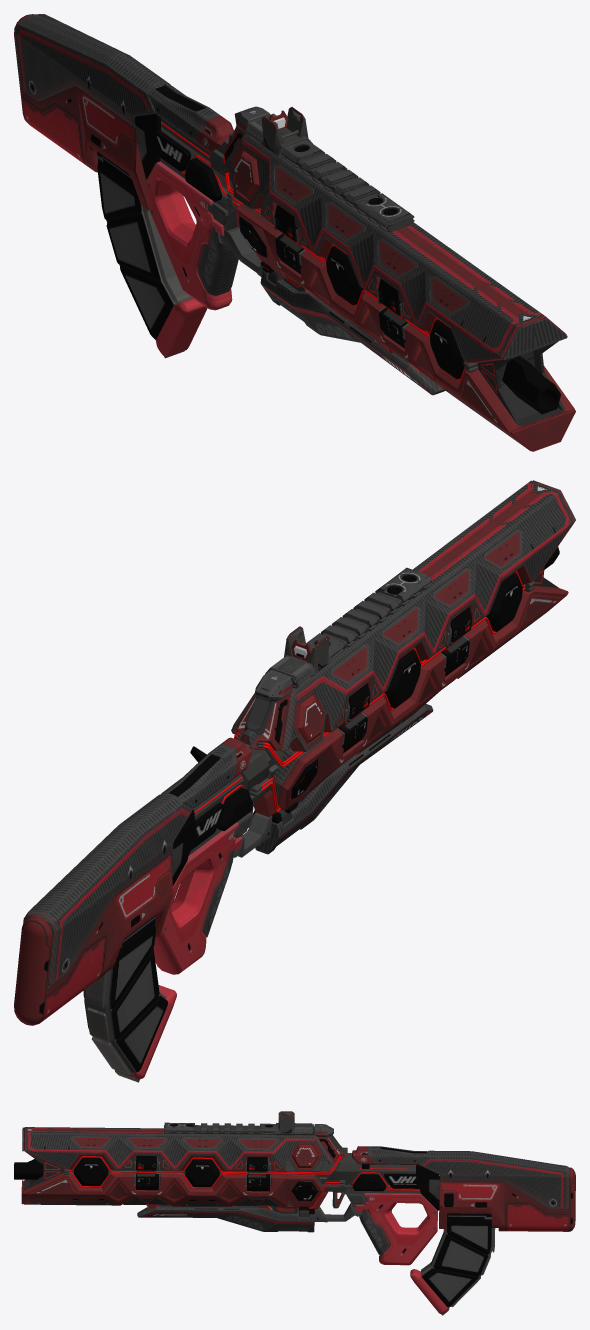
File: flatline_rifle.glb
The picture shows the model from 3 angles, top to bottom: view 1: azimuth 30°, elevation 25°; view 2: azimuth 150°, elevation 25°; view 3: azimuth 270°, elevation 25°; orthographic projection. The views are drawn at different scales.
Parts seen in each view (by area): view 1: body_0_flatline_react_v20_assim_main.002_flatline_react_v20_, magazine_0_flatline_react_v20_assim_main.002_flatline_react_, body_0_flatline_react_v20_assim_piston.002_flatline_react_v2, sight_rear_on_1_flatline_react_v20_assim_main.002_flatline_r; view 2: body_0_flatline_react_v20_assim_main.002_flatline_react_v20_, magazine_0_flatline_react_v20_assim_main.002_flatline_react_, body_0_flatline_react_v20_assim_piston.002_flatline_react_v2, sight_rear_on_1_flatline_react_v20_assim_main.002_flatline_r; view 3: body_0_flatline_react_v20_assim_main.002_flatline_react_v20_, magazine_0_flatline_react_v20_assim_main.002_flatline_react_, body_0_flatline_react_v20_assim_piston.002_flatline_react_v2, sight_rear_on_1_flatline_react_v20_assim_main.002_flatline_r.
Part boxes in pixels (bbox=[...]): body_0_flatline_react_v20_assim_main.002_flatline_react_v20_: bbox=[14, 14, 575, 451]; magazine_0_flatline_react_v20_assim_main.002_flatline_react_: bbox=[97, 151, 207, 358]; body_0_flatline_react_v20_assim_piston.002_flatline_react_v2: bbox=[233, 151, 469, 379]; sight_rear_on_1_flatline_react_v20_assim_main.002_flatline_r: bbox=[245, 107, 312, 159]; body_0_flatline_react_v20_assim_main.002_flatline_react_v20_: bbox=[14, 480, 575, 1025]; magazine_0_flatline_react_v20_assim_main.002_flatline_react_: bbox=[83, 915, 176, 1082]; body_0_flatline_react_v20_assim_piston.002_flatline_react_v2: bbox=[290, 529, 522, 799]; sight_rear_on_1_flatline_react_v20_assim_main.002_flatline_r: bbox=[265, 626, 332, 688]; body_0_flatline_react_v20_assim_main.002_flatline_react_v20_: bbox=[14, 1122, 575, 1265]; magazine_0_flatline_react_v20_assim_main.002_flatline_react_: bbox=[410, 1213, 495, 1315]; body_0_flatline_react_v20_assim_piston.002_flatline_react_v2: bbox=[70, 1136, 318, 1200]; sight_rear_on_1_flatline_react_v20_assim_main.002_flatline_r: bbox=[276, 1111, 312, 1135].
Bounding box in the file's own units: 2.67 × 11.86 × 31.53.
Materials: 2 (1 with a texture image).
